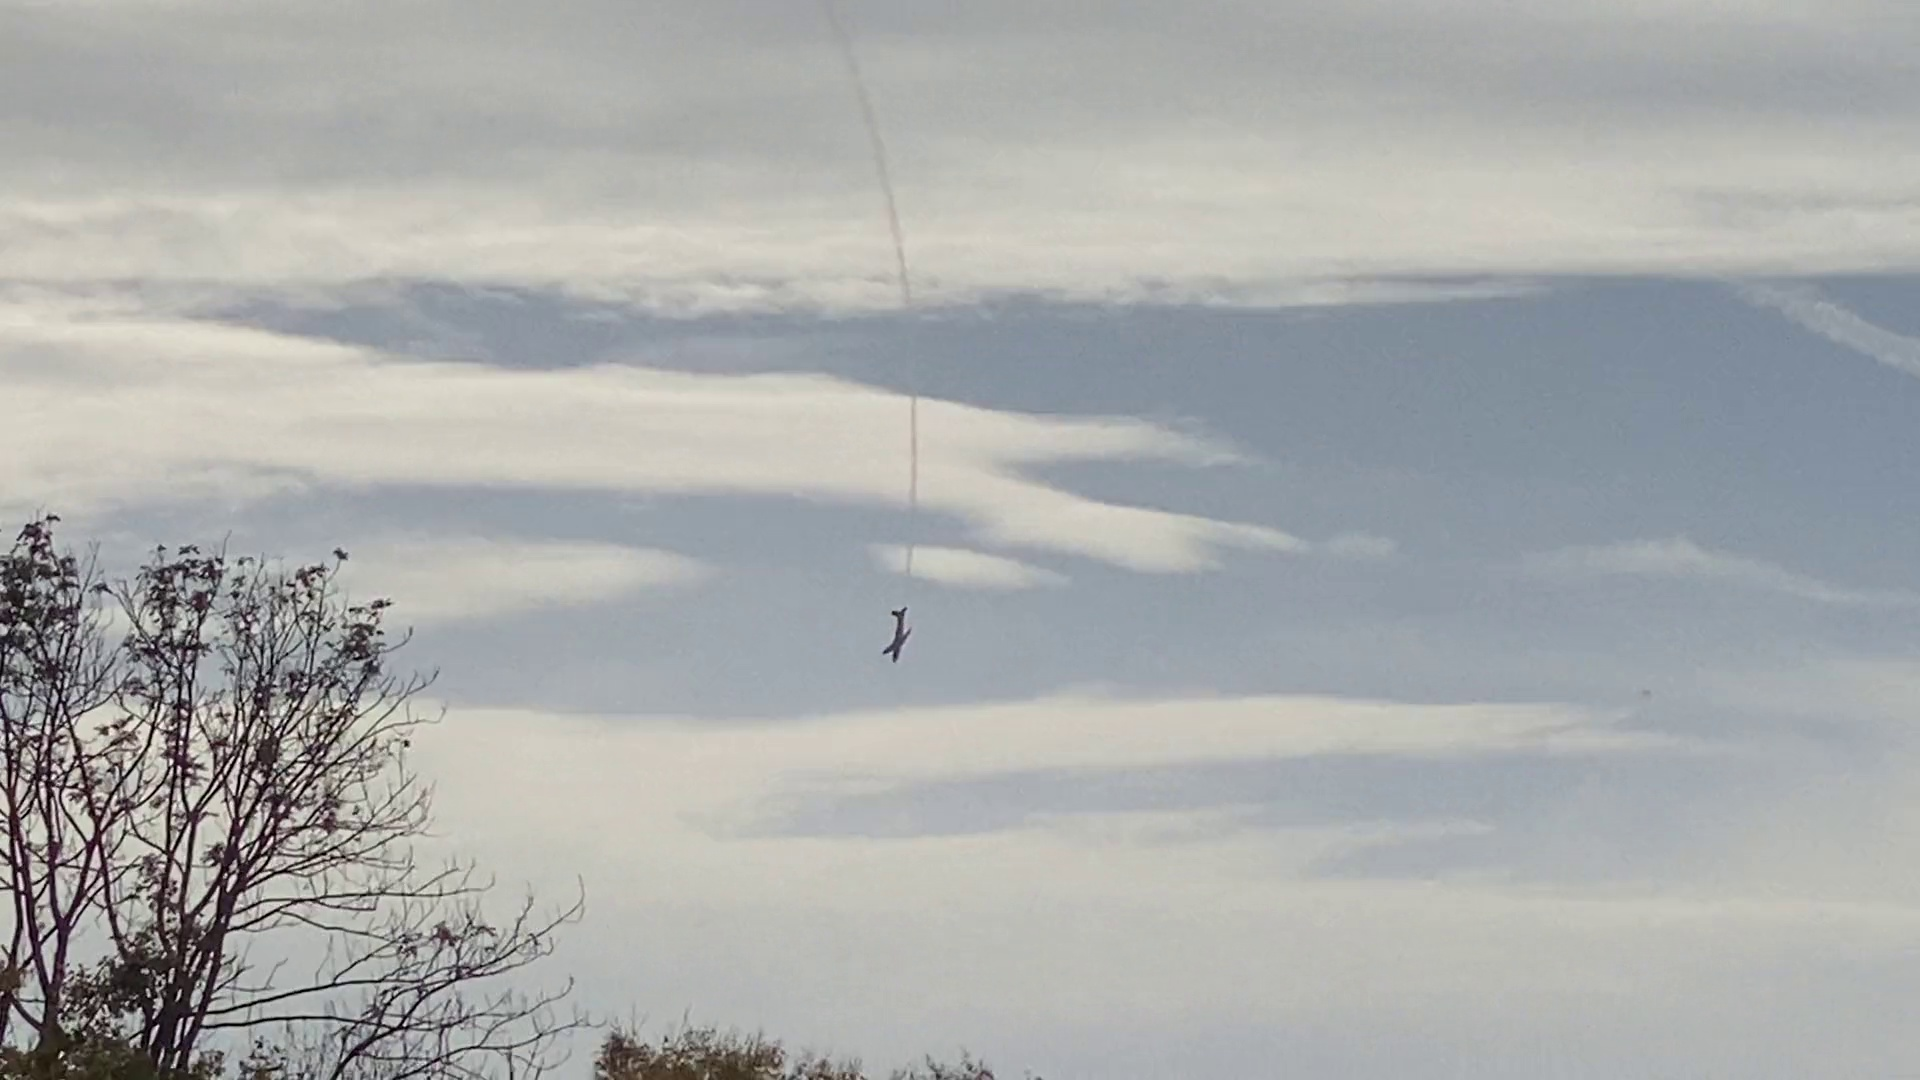plane: (880, 604, 913, 665)
